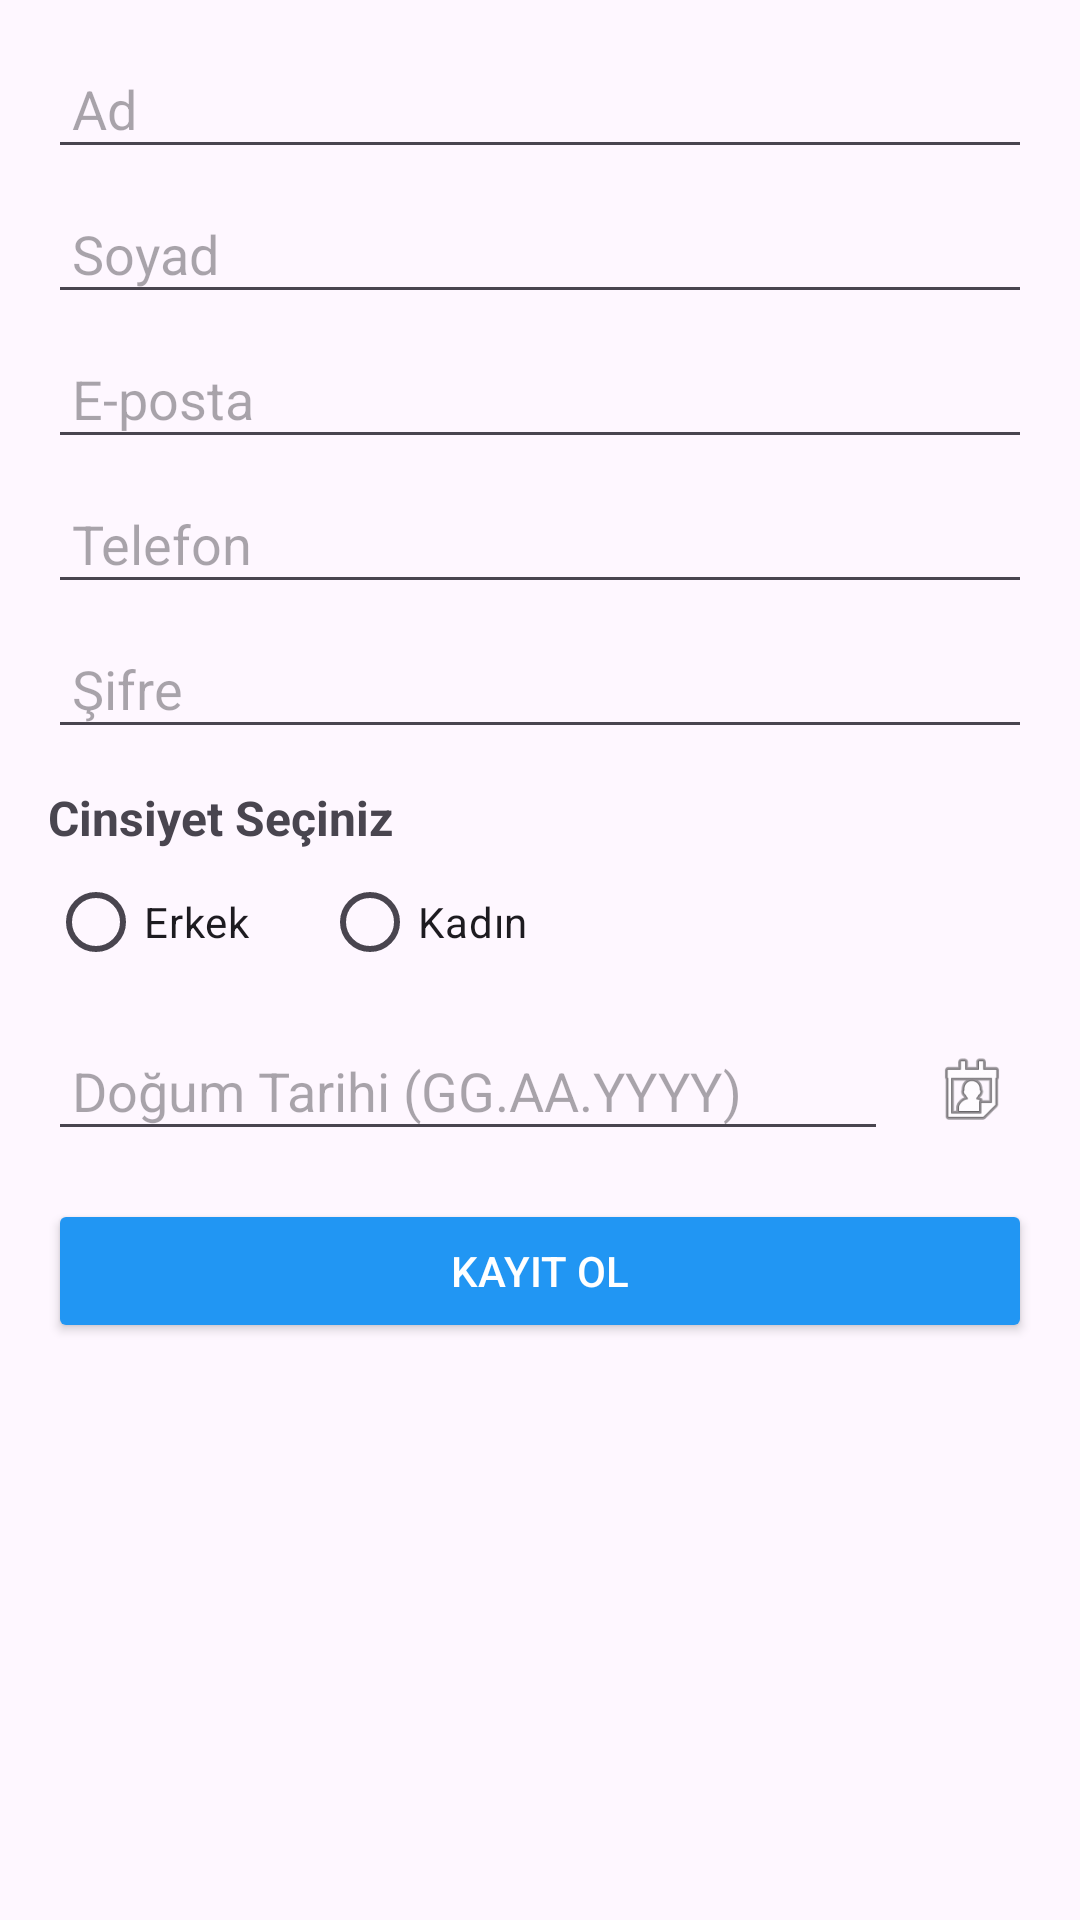

Icon click points for this 1080 x 1920 phone screenshot, format (x=x, y=y):
Takvim Aç: (x=972, y=1089)
